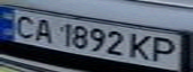1: (51, 20, 72, 47)
2: (106, 28, 130, 58)
8: (69, 22, 90, 52)
9: (87, 25, 109, 54)
A: (30, 16, 57, 44)
C: (6, 11, 42, 39)
K: (124, 30, 157, 62)
P: (148, 35, 181, 65)
